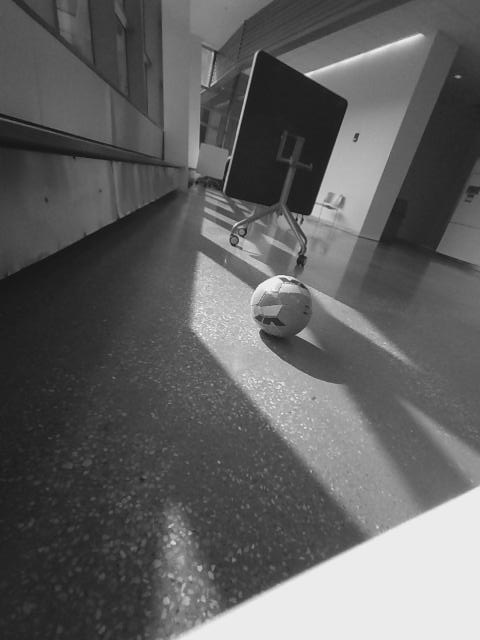ball: (246, 273, 317, 340)
